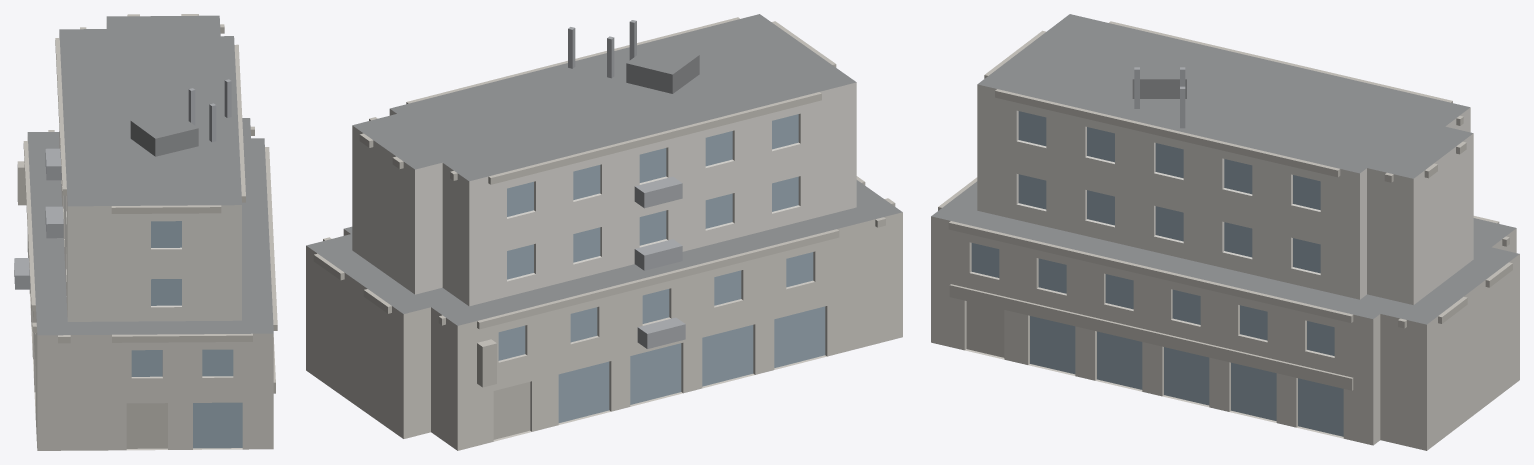
File: doitt-102705__lod_0.glb
3 renders of one model, left to right at view 1: azimuth 30°, elevation 25°; view 2: azimuth 150°, elevation 25°; view 3: azimuth 270°, elevation 25°, orthographic. The views are drawn at different scales.
Bounding box in the file's own units: 25.58 × 17.09 × 31.22.
